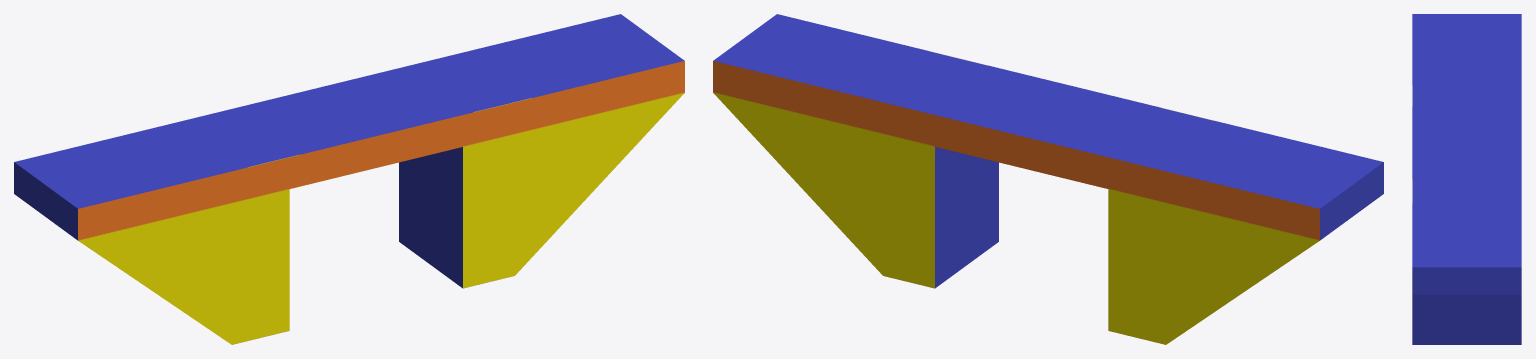
Rendered from H_Bench_Chair.obj.
3 renders of one model, left to right at view 1: azimuth 30°, elevation 25°; view 2: azimuth 150°, elevation 25°; view 3: azimuth 270°, elevation 25°, orthographic. The views are drawn at different scales.
Visible parts, largest first — view 1: Cube_Cube.001; view 2: Cube_Cube.001; view 3: Cube_Cube.001.
Part boxes in pixels (<box>): Cube_Cube.001: <box>14,14,684,344</box>; Cube_Cube.001: <box>713,14,1383,344</box>; Cube_Cube.001: <box>1412,14,1521,344</box>.
Bounding box in the file's own units: 10.95 × 2.99 × 2.
